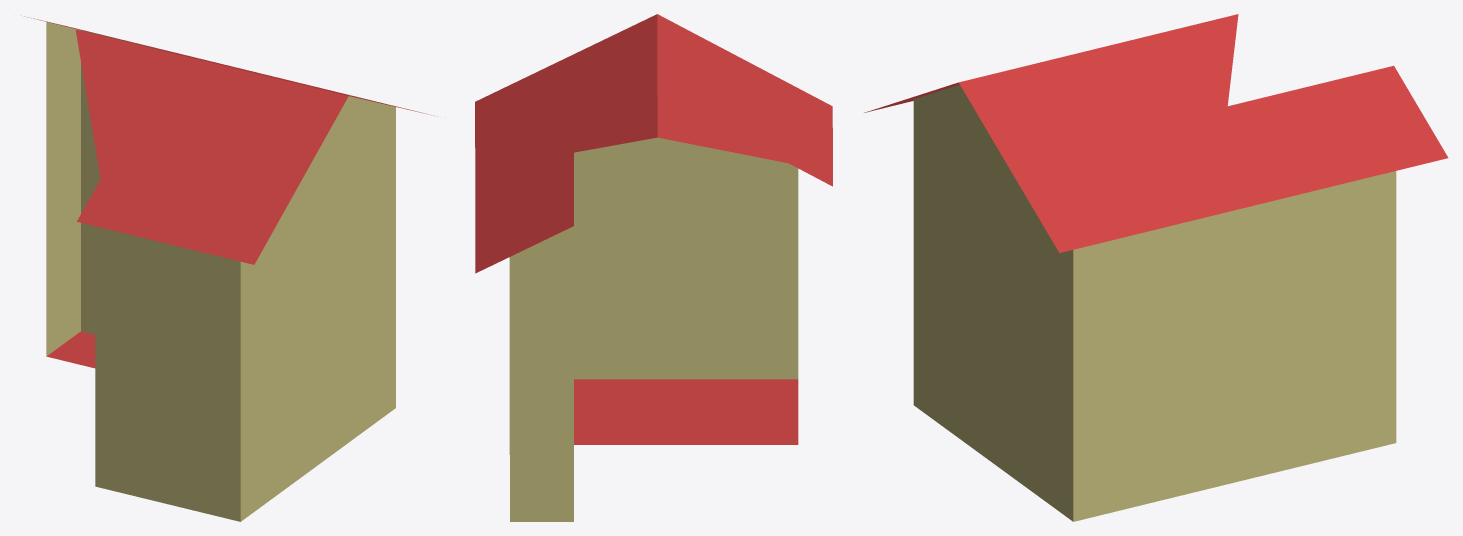
3 views of the same model, side by side, from view 1: azimuth 30°, elevation 25°; view 2: azimuth 150°, elevation 25°; view 3: azimuth 270°, elevation 25° (orthographic). The views are drawn at different scales.
Bounding box in the file's own units: 8.78 × 11.52 × 8.4.
